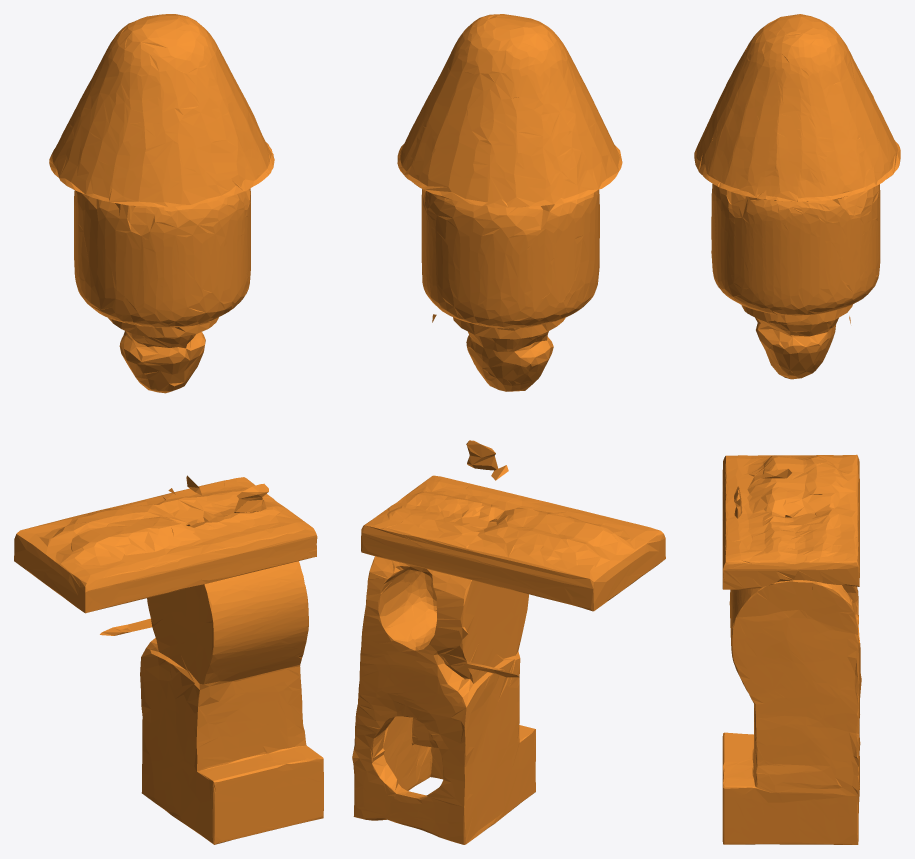
File: figurine-1.glb
3 views of the same model, side by side, from view 1: azimuth 30°, elevation 25°; view 2: azimuth 150°, elevation 25°; view 3: azimuth 270°, elevation 25° (orthographic). The views are drawn at different scales.
Visible parts, largest first — view 1: part_01; view 2: part_01; view 3: part_01.
Part boxes in pixels (x1,y1,x2,y2): part_01: (14, 14, 323, 844); part_01: (352, 14, 665, 844); part_01: (694, 14, 900, 844).
Bounding box in the file's own units: 0.3324 × 1.06 × 0.2584.
